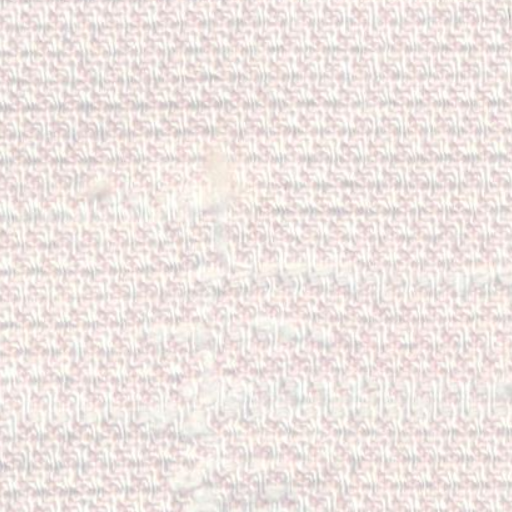DuanSha: (140, 135, 252, 502)
